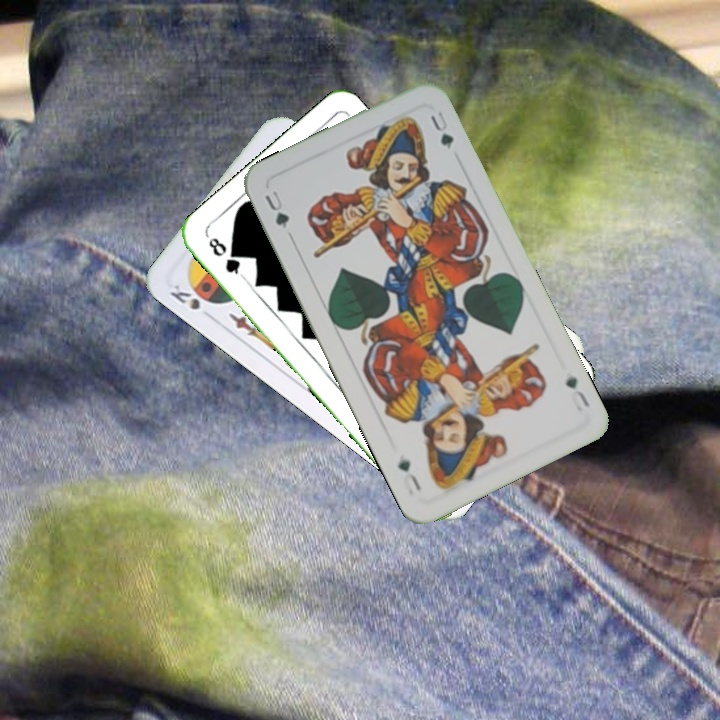G8: (204, 233, 247, 280)
GU: (260, 186, 295, 240), (561, 372, 593, 411)
SK: (166, 280, 203, 313)
